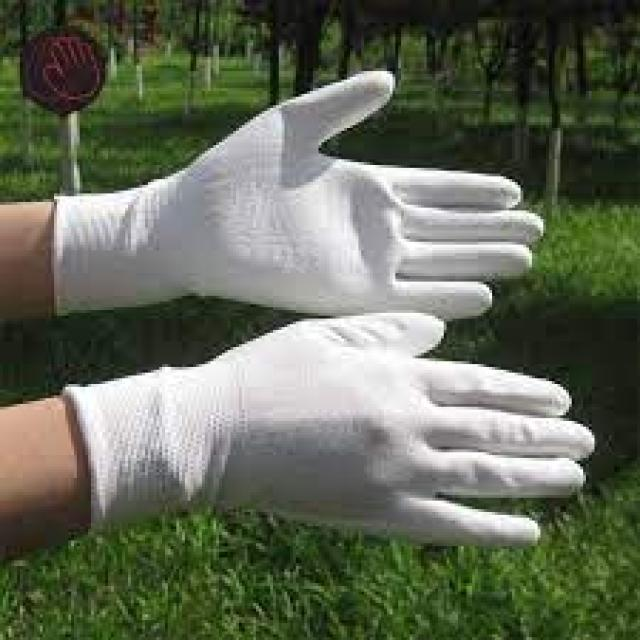Gloves: (58, 72, 592, 544)
